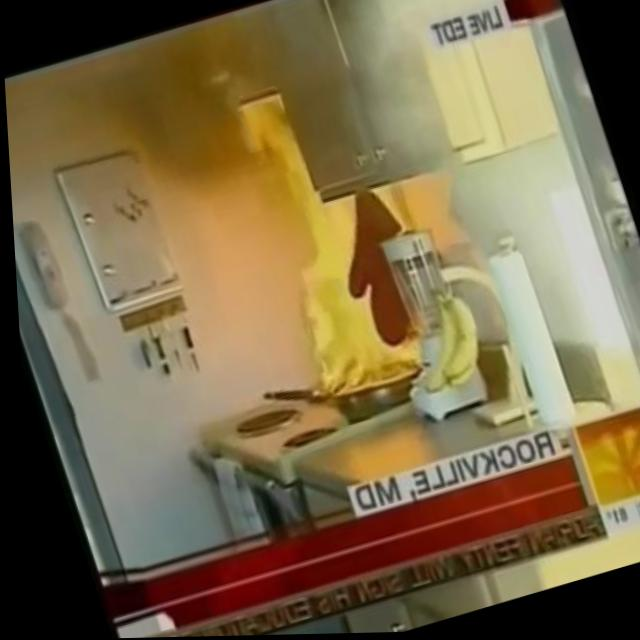fire: (251, 175, 432, 416)
